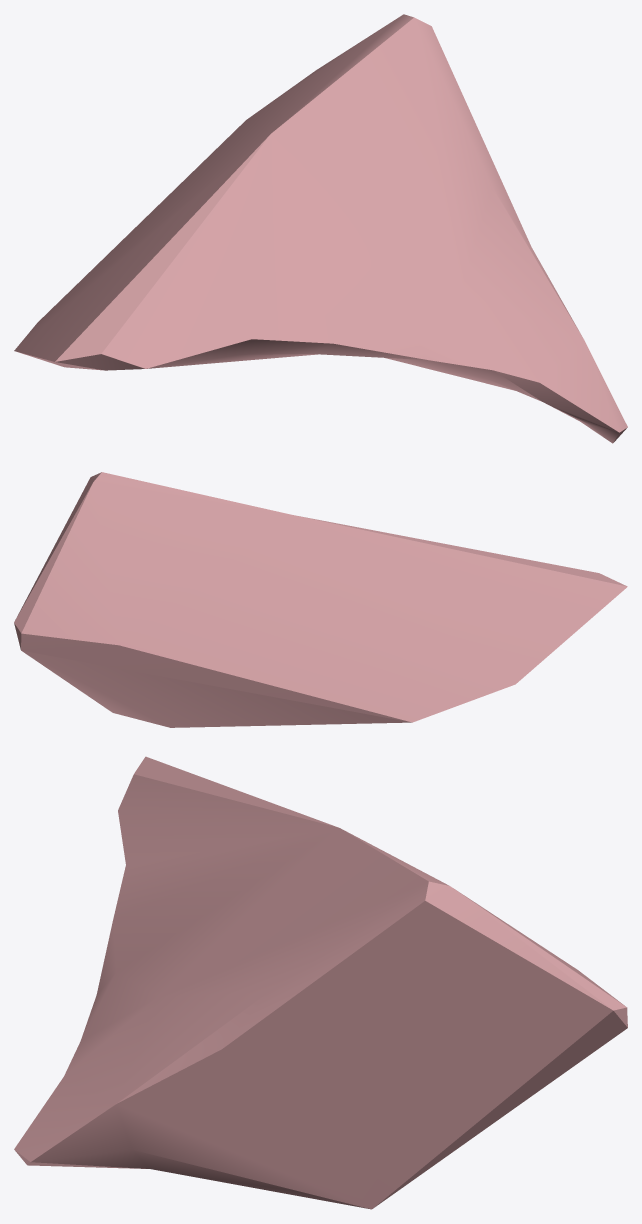
File: fma83740_fj1811.glb
3 views of the same model, one above another, from view 1: azimuth 30°, elevation 25°; view 2: azimuth 150°, elevation 25°; view 3: azimuth 270°, elevation 25° (orthographic). The views are drawn at different scales.
Parts seen in each view (by area): view 1: FMA83740_FJ1811; view 2: FMA83740_FJ1811; view 3: FMA83740_FJ1811.
Boxes of the visible parts, <box> form: FMA83740_FJ1811: <box>14,14,627,443</box>; FMA83740_FJ1811: <box>14,472,627,727</box>; FMA83740_FJ1811: <box>14,756,627,1209</box>.
Bounding box in the file's own units: 0.00238 × 0.0014 × 0.00243.
